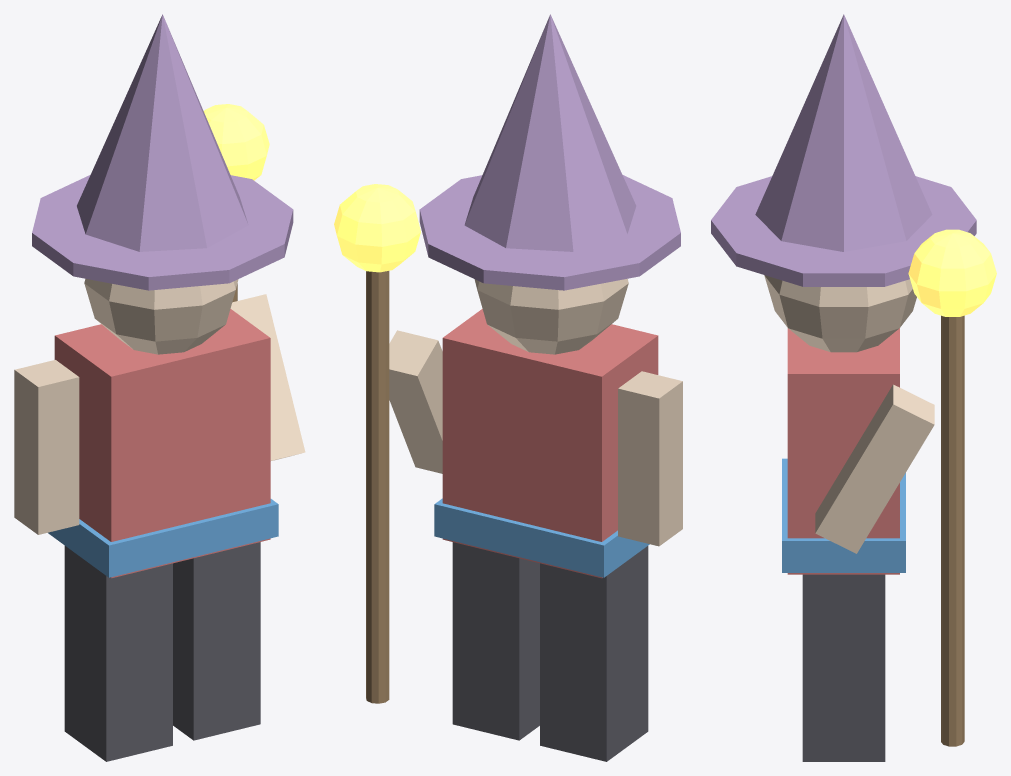
The model's file is mage.glb.
3 renders of one model, left to right at view 1: azimuth 30°, elevation 25°; view 2: azimuth 150°, elevation 25°; view 3: azimuth 270°, elevation 25°, orthographic.
Visible parts, largest first — view 1: mage; view 2: mage; view 3: mage.
Part boxes in pixels (box(x1,y1,x2,y2)): mage: box(14, 14, 305, 761); mage: box(334, 14, 682, 761); mage: box(711, 14, 996, 761).
Size of the model in its own units: 1.05 by 2.52 by 0.92.
